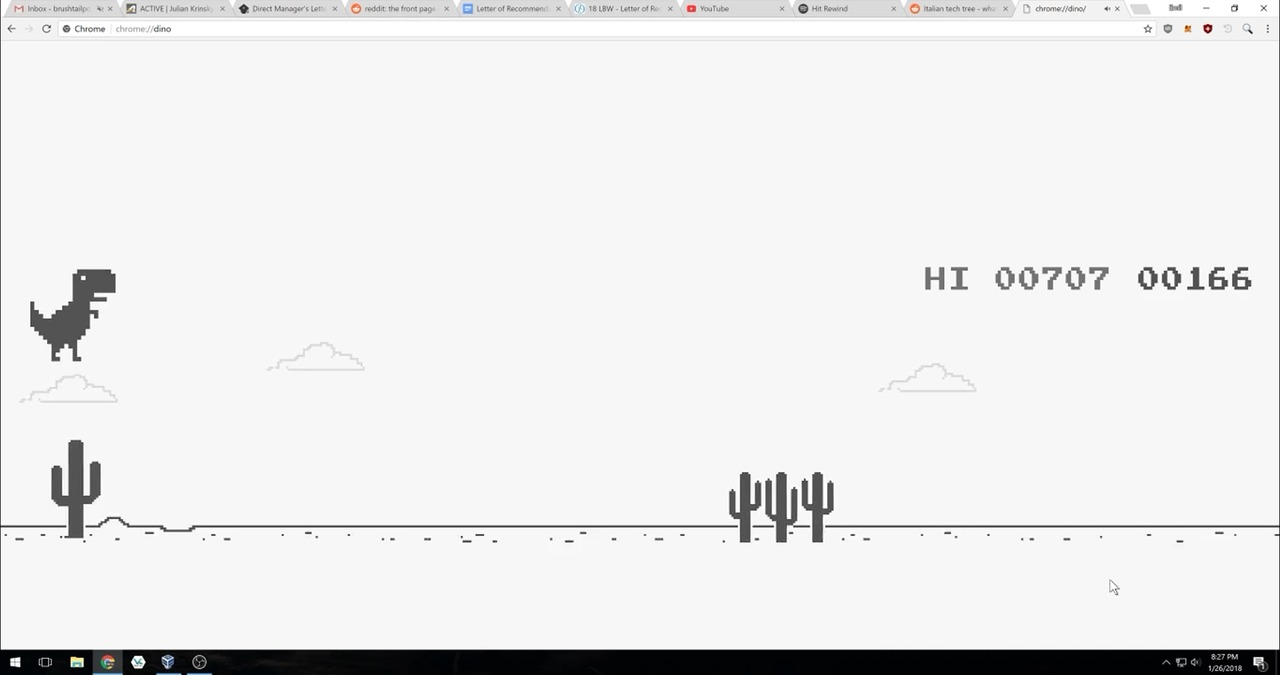cactus: (726, 467, 835, 546), (47, 432, 106, 542)
dinosaur: (28, 269, 118, 364)
